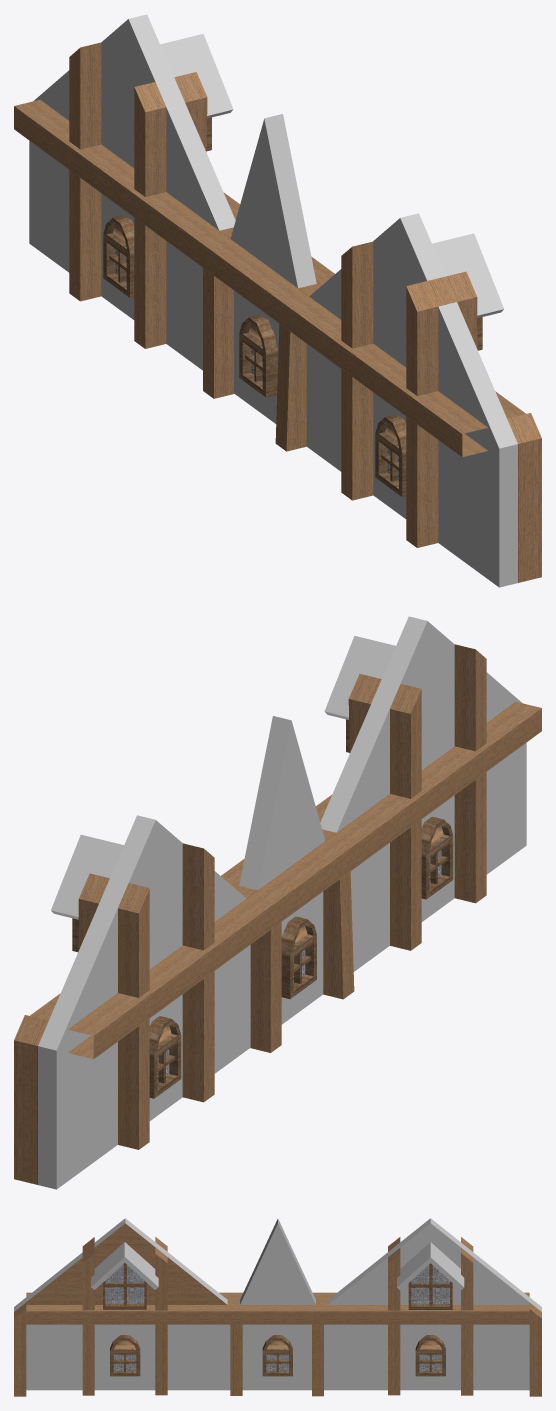
Rendered from Butcher_backwall.fbx.
3 renders of one model, top to bottom at view 1: azimuth 30°, elevation 25°; view 2: azimuth 150°, elevation 25°; view 3: azimuth 270°, elevation 25°, orthographic. The views are drawn at different scales.
Visible parts, largest first — view 1: Butcher_backwall; view 2: Butcher_backwall; view 3: Butcher_backwall.
Boxes of the visible parts, box(x1,y1,x2,y2) form: Butcher_backwall: box(14, 14, 541, 587); Butcher_backwall: box(14, 616, 541, 1189); Butcher_backwall: box(14, 1218, 541, 1396).
Bounding box in the file's own units: 18.95 × 53.25 × 152.
